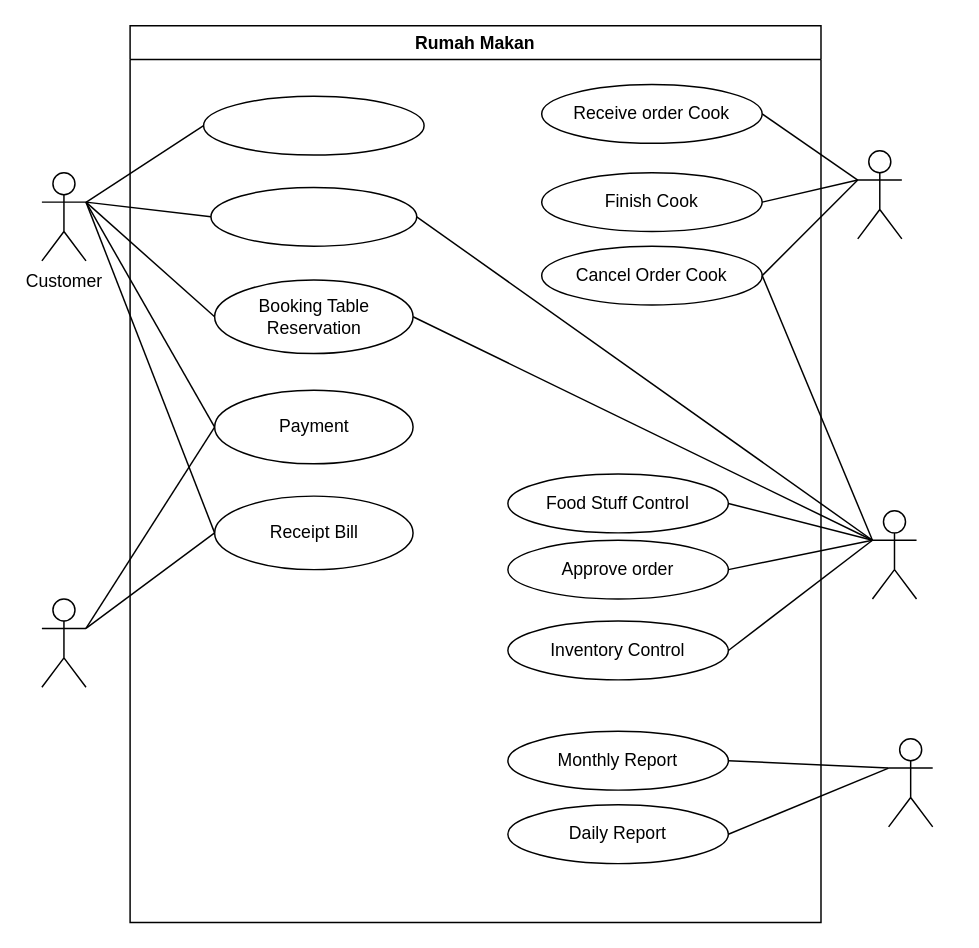
Some shapes in this 979 by 948 pixel diagram are drawn without their labels. Here are the shapes that lost their labels. From the top down, the centre of each, then its label:
At (x=313, y=125): "Account Sign Up".
At (x=879, y=194): "Chef".
At (x=313, y=216): "Order Food".
At (x=894, y=554): "Waiter/waitress & worker".
At (x=63, y=642): "Kasir".
At (x=910, y=782): "Manager".
